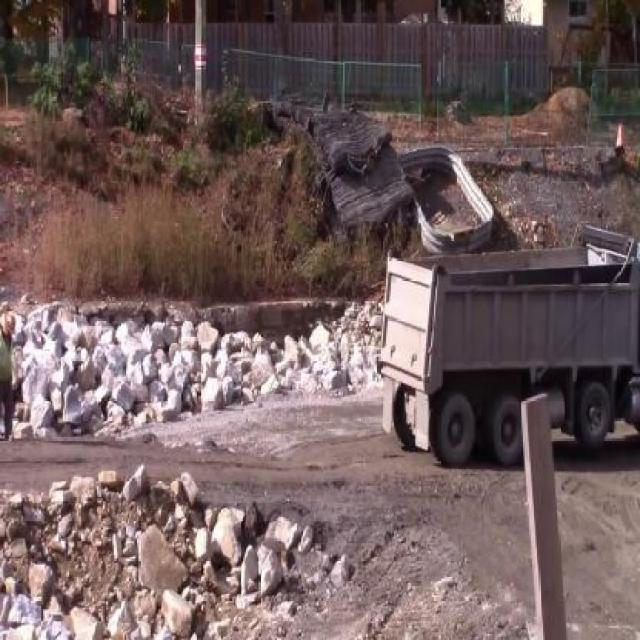dump_truck: (378, 217, 639, 466)
